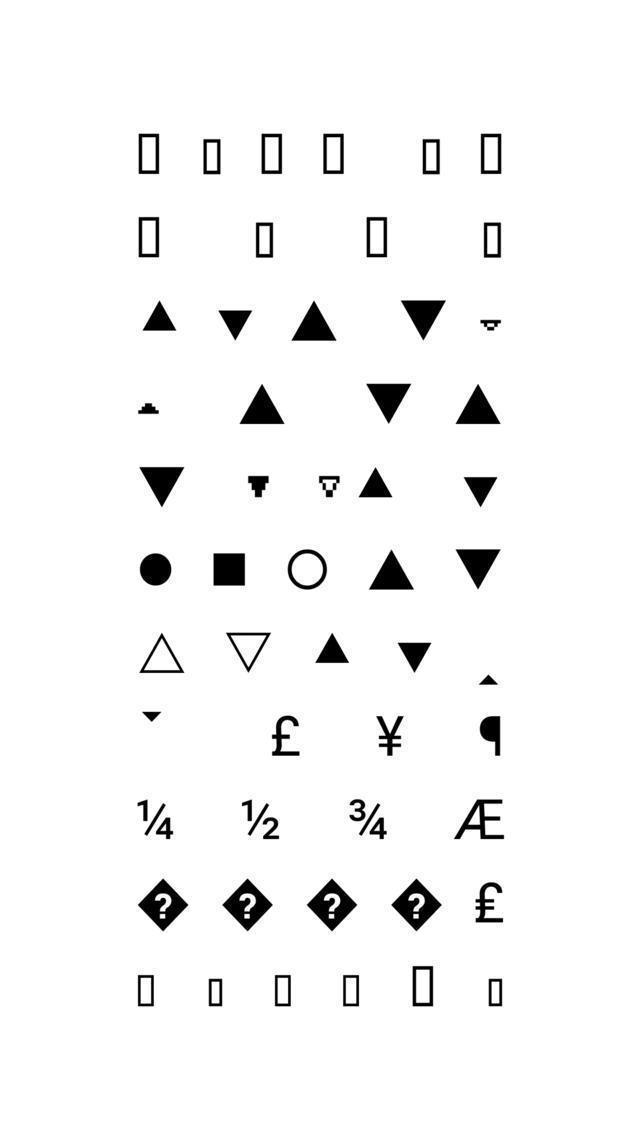ASCII: (220, 872, 274, 939), (124, 784, 180, 848), (135, 874, 190, 939), (233, 376, 290, 435), (236, 789, 287, 854), (396, 289, 452, 348), (450, 794, 510, 848), (450, 539, 506, 596), (284, 294, 339, 351), (132, 457, 189, 512), (306, 874, 358, 934), (449, 379, 505, 434), (133, 632, 190, 686), (362, 374, 418, 428), (342, 794, 392, 853), (393, 876, 443, 932), (364, 544, 418, 595), (265, 706, 310, 767), (280, 542, 332, 594), (368, 707, 412, 768), (471, 874, 514, 936), (308, 626, 357, 678), (222, 625, 274, 673), (132, 294, 182, 342), (455, 466, 507, 512), (206, 544, 251, 594), (394, 629, 436, 680), (212, 302, 262, 344), (352, 460, 396, 507), (473, 710, 512, 762), (130, 209, 166, 264), (405, 954, 438, 1014), (129, 128, 167, 180), (134, 548, 178, 592), (126, 964, 166, 1012), (358, 210, 393, 262), (195, 128, 228, 180), (474, 129, 508, 179), (476, 214, 507, 266), (258, 129, 288, 180), (412, 135, 447, 178), (320, 129, 350, 179), (264, 969, 298, 1013), (248, 216, 279, 264), (463, 665, 507, 697), (238, 466, 274, 504), (336, 969, 366, 1014), (476, 304, 507, 344), (133, 698, 169, 732), (126, 390, 163, 422), (483, 971, 508, 1014), (314, 471, 344, 504), (202, 972, 226, 1012)
